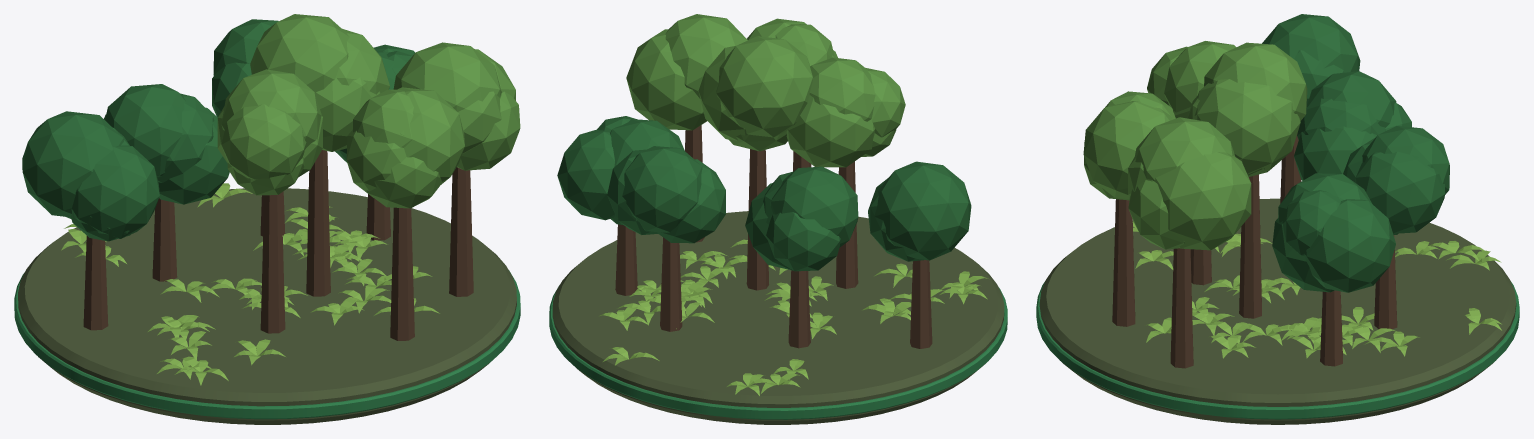
The model's file is cuenca_bosque.glb.
3 renders of one model, left to right at view 1: azimuth 30°, elevation 25°; view 2: azimuth 150°, elevation 25°; view 3: azimuth 270°, elevation 25°, orthographic. The views are drawn at different scales.
Parts seen in each view (by area): view 1: geo_detail, geo_base; view 2: geo_detail, geo_base; view 3: geo_detail, geo_base.
Part boxes in pixels (x1,y1,x2,y2): geo_detail: [22, 14, 520, 385]; geo_base: [14, 188, 520, 424]; geo_detail: [557, 14, 988, 395]; geo_base: [549, 211, 1007, 424]; geo_detail: [1083, 14, 1501, 368]; geo_base: [1036, 198, 1519, 424].
Bounding box in the file's own units: 0.1124 × 0.0749 × 0.1116.
